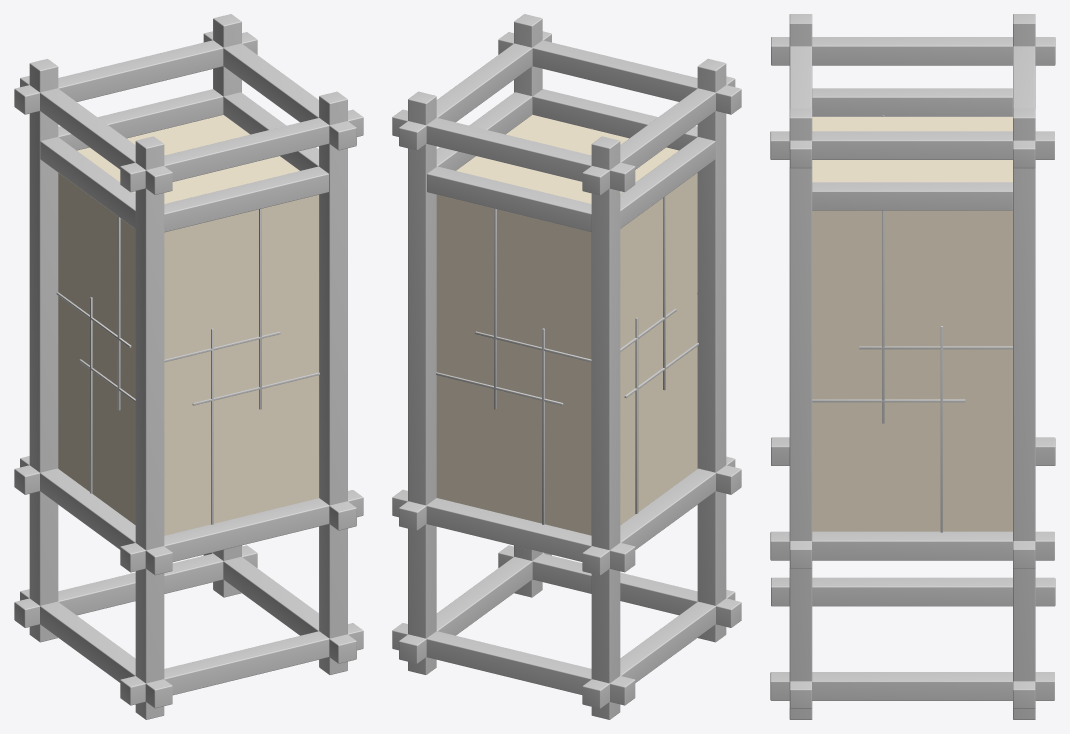
The model's file is uploads_files_2613588_Japanese+Lamp.fbx.
3 renders of one model, left to right at view 1: azimuth 30°, elevation 25°; view 2: azimuth 150°, elevation 25°; view 3: azimuth 270°, elevation 25°, orthographic. The views are drawn at different scales.
Visible parts, largest first — view 1: Frame, Paper; view 2: Frame, Paper; view 3: Frame, Paper.
Boxes of the visible parts, x1,y1,x2,y2 form: Frame: (14,14,363,719); Paper: (58,115,318,535); Frame: (392,14,741,719); Paper: (436,114,697,535); Frame: (770,14,1055,719); Paper: (812,117,1012,531).
Size of the model in its own units: 139 by 326 by 140.
